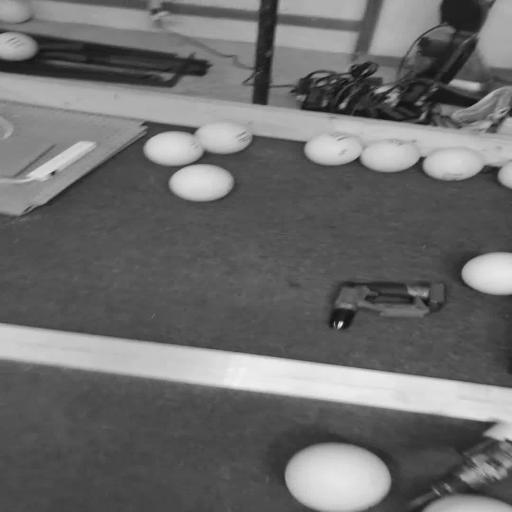fuel: (285, 443, 392, 511), (169, 164, 234, 202), (461, 252, 512, 295), (143, 131, 204, 166), (360, 139, 420, 173), (423, 148, 484, 181), (304, 132, 363, 166), (195, 122, 252, 154), (423, 495, 511, 511), (0, 32, 38, 61), (498, 161, 512, 189)
